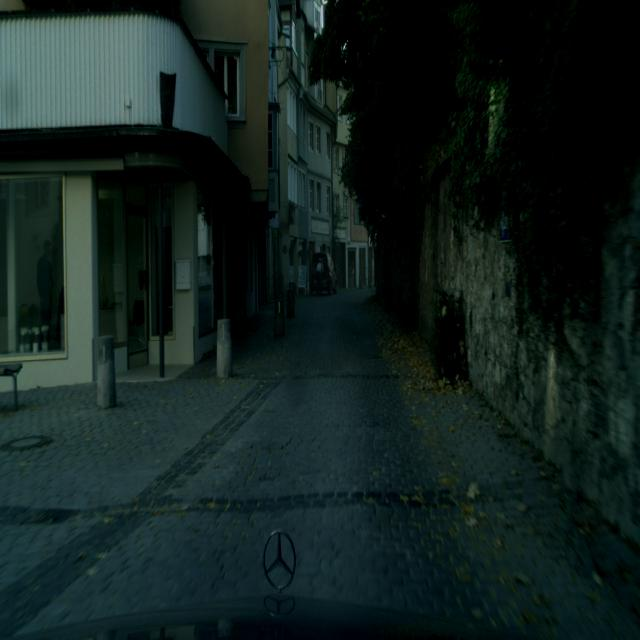bus: (309, 252, 337, 298)
person: (315, 259, 324, 298)
